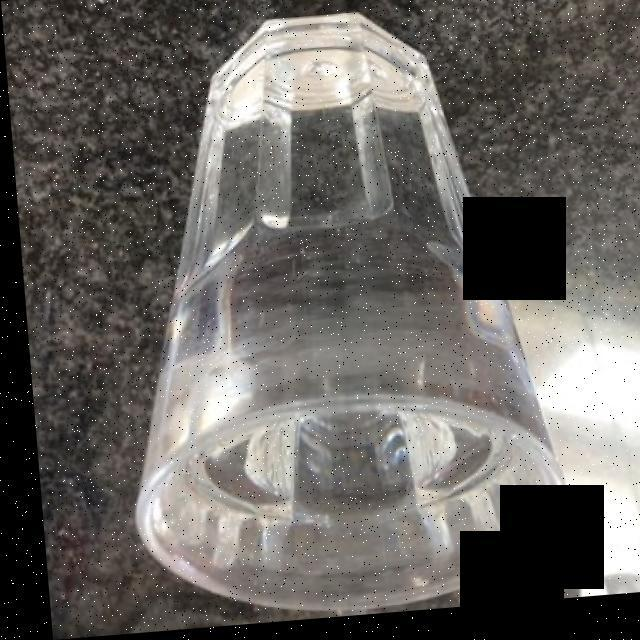water: (149, 42, 529, 543)
